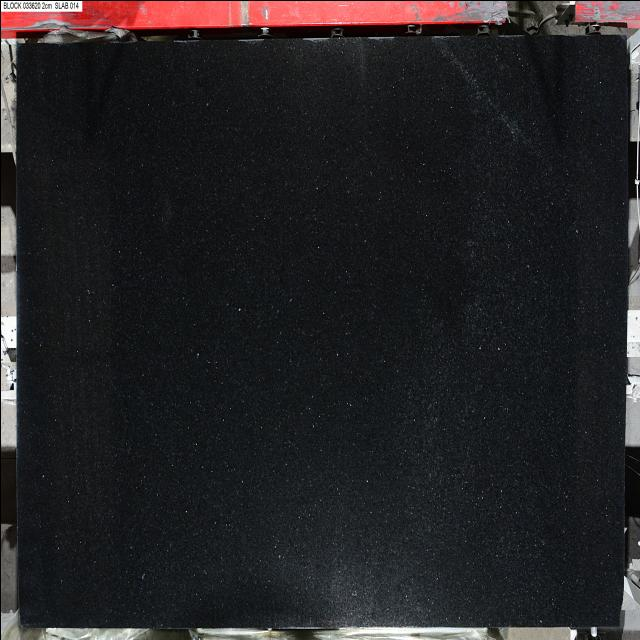chapa: (16, 36, 626, 628)
